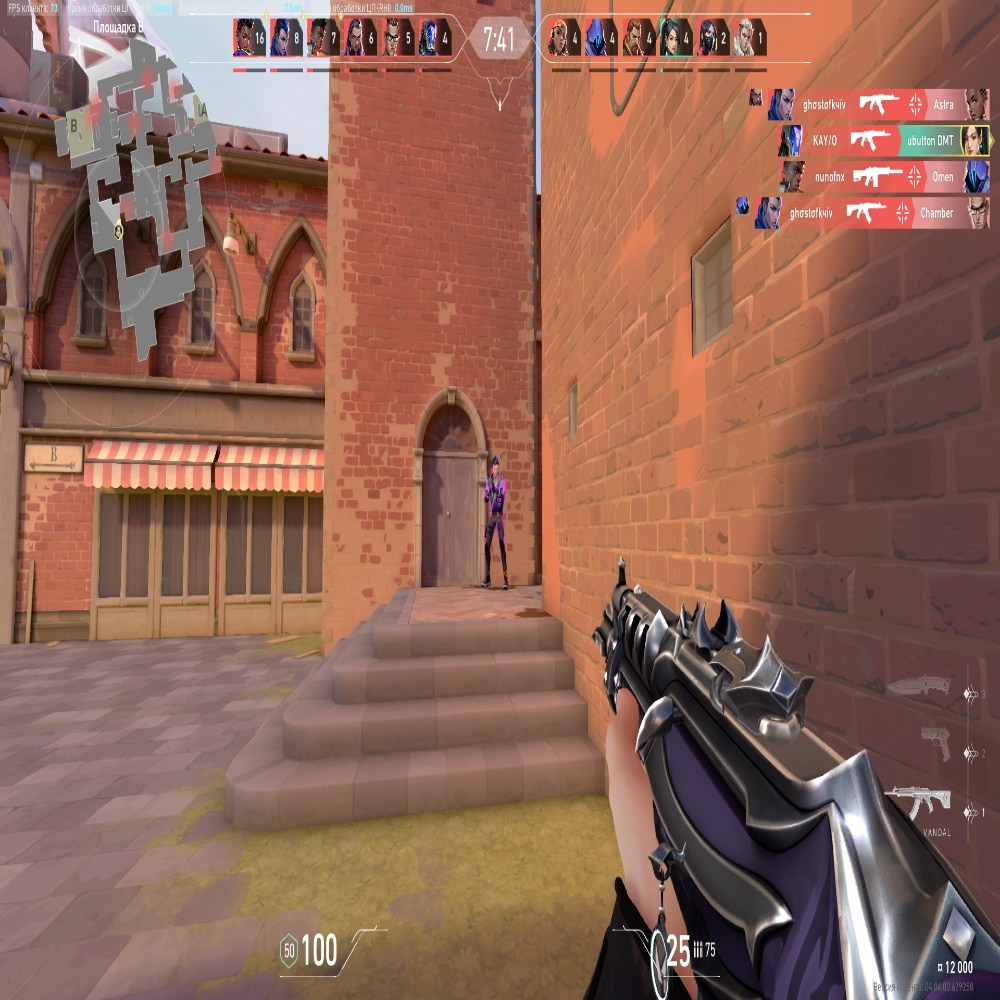body: (487, 480, 504, 518)
head: (491, 459, 499, 475)
